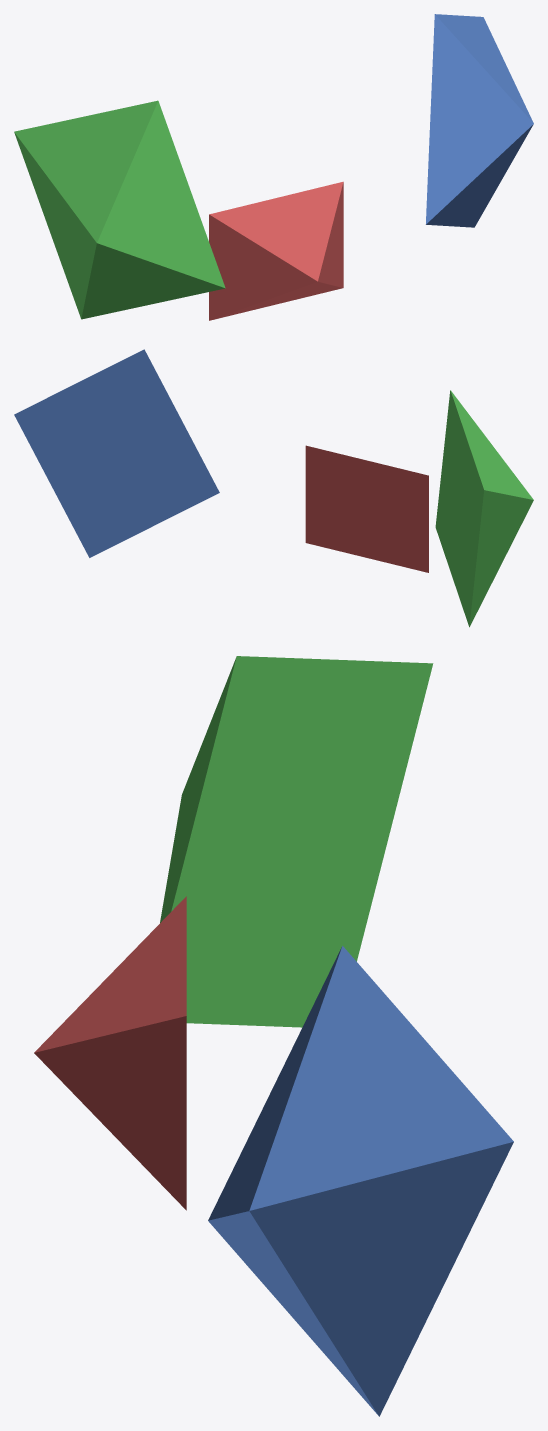
File: scene_filtered.glb
3 renders of one model, top to bottom at view 1: azimuth 30°, elevation 25°; view 2: azimuth 150°, elevation 25°; view 3: azimuth 270°, elevation 25°, orthographic. The views are drawn at different scales.
Visible parts, largest first — view 1: camera_hand_left, camera_hand_right, camera_head; view 2: camera_hand_right, camera_head, camera_hand_left; view 3: camera_hand_right, camera_hand_left, camera_head.
Part boxes in pixels (x1,y1,x2,y2): camera_hand_left: (14, 100, 225, 319); camera_hand_right: (425, 14, 533, 227); camera_head: (209, 181, 343, 320); camera_hand_right: (14, 349, 219, 557); camera_head: (305, 445, 428, 572); camera_hand_left: (435, 390, 533, 627); camera_hand_right: (208, 946, 513, 1416); camera_hand_left: (160, 656, 433, 1027); camera_head: (34, 896, 186, 1210).
Bounding box in the file's own units: 1.02 × 0.4804 × 0.4712.
